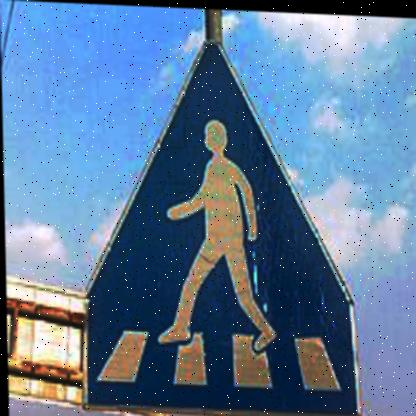Pedestrian Crossing: (39, 36, 383, 416)
